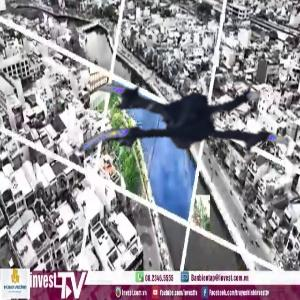drone: (79, 39, 286, 246)
